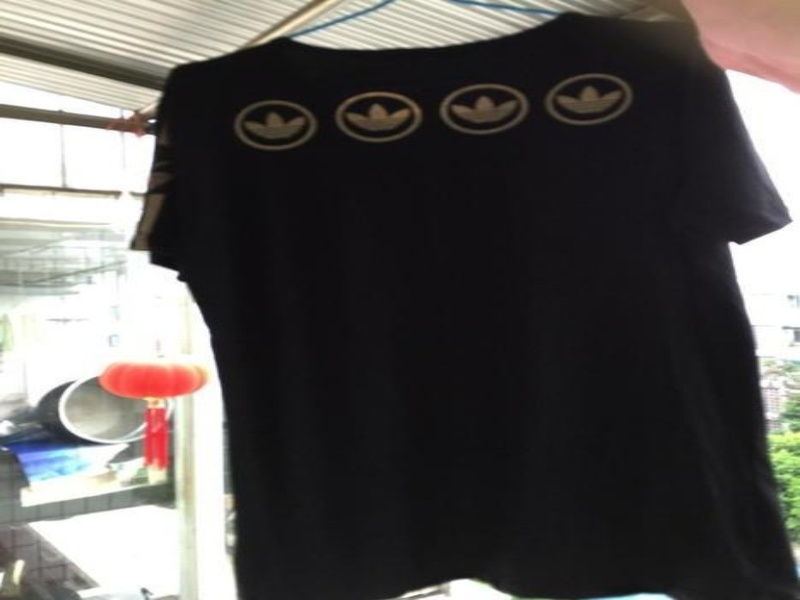short_sleeved_shirt: (128, 15, 798, 599)
